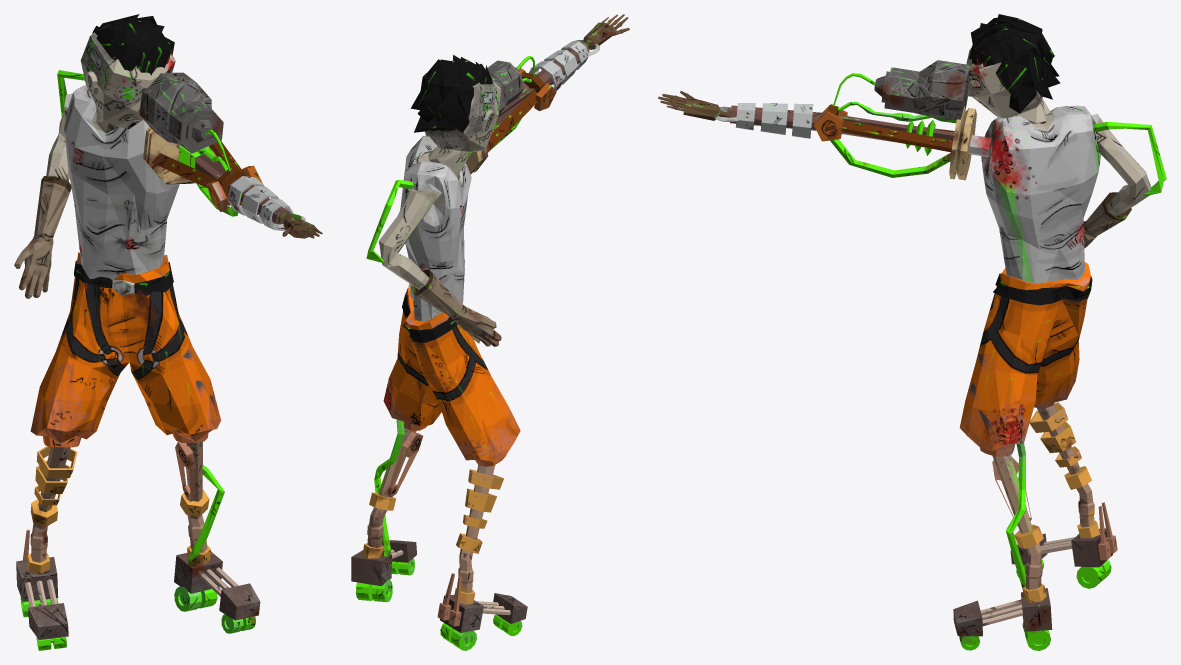
File: CyborgFINALAnimation_000072.obj
3 views of the same model, side by side, from view 1: azimuth 30°, elevation 25°; view 2: azimuth 150°, elevation 25°; view 3: azimuth 270°, elevation 25° (orthographic). The views are drawn at different scales.
Visible parts, largest first — view 1: CyborgMesh_Cube.002; view 2: CyborgMesh_Cube.002; view 3: CyborgMesh_Cube.002.
Part boxes in pixels (bbox=[...]): CyborgMesh_Cube.002: bbox=[14, 14, 322, 650]; CyborgMesh_Cube.002: bbox=[351, 14, 629, 650]; CyborgMesh_Cube.002: bbox=[658, 14, 1166, 650].
Bounding box in the file's own units: 3.05 × 9.51 × 7.45.
